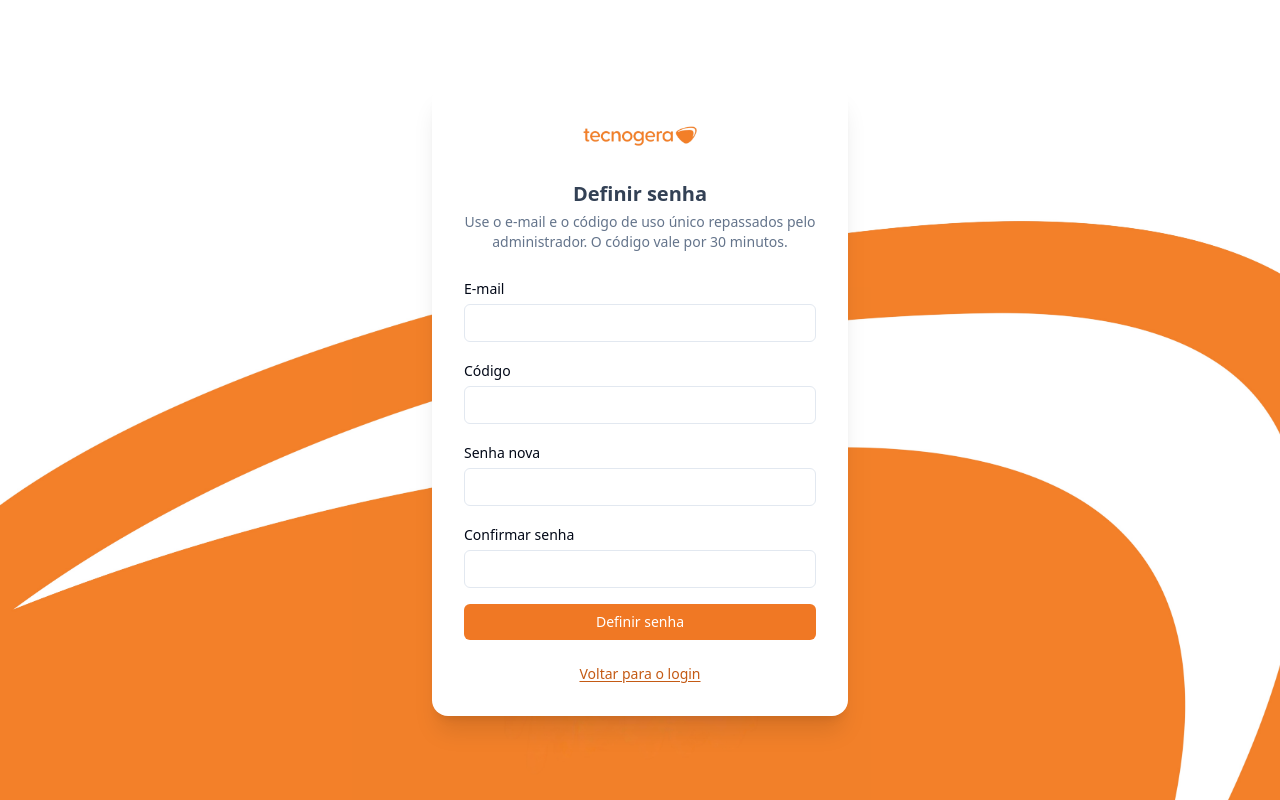
it: DefinirSenhaPage › trata 429 mostrando a mensagem do backend, sem inventar texto novo
The image size is (1280, 800).
Type "usuario@tecnogera.com" into the field labelled "E-mail".
click(640, 323); type("usuario@tecnogera.com")  # box [464,304,816,342]
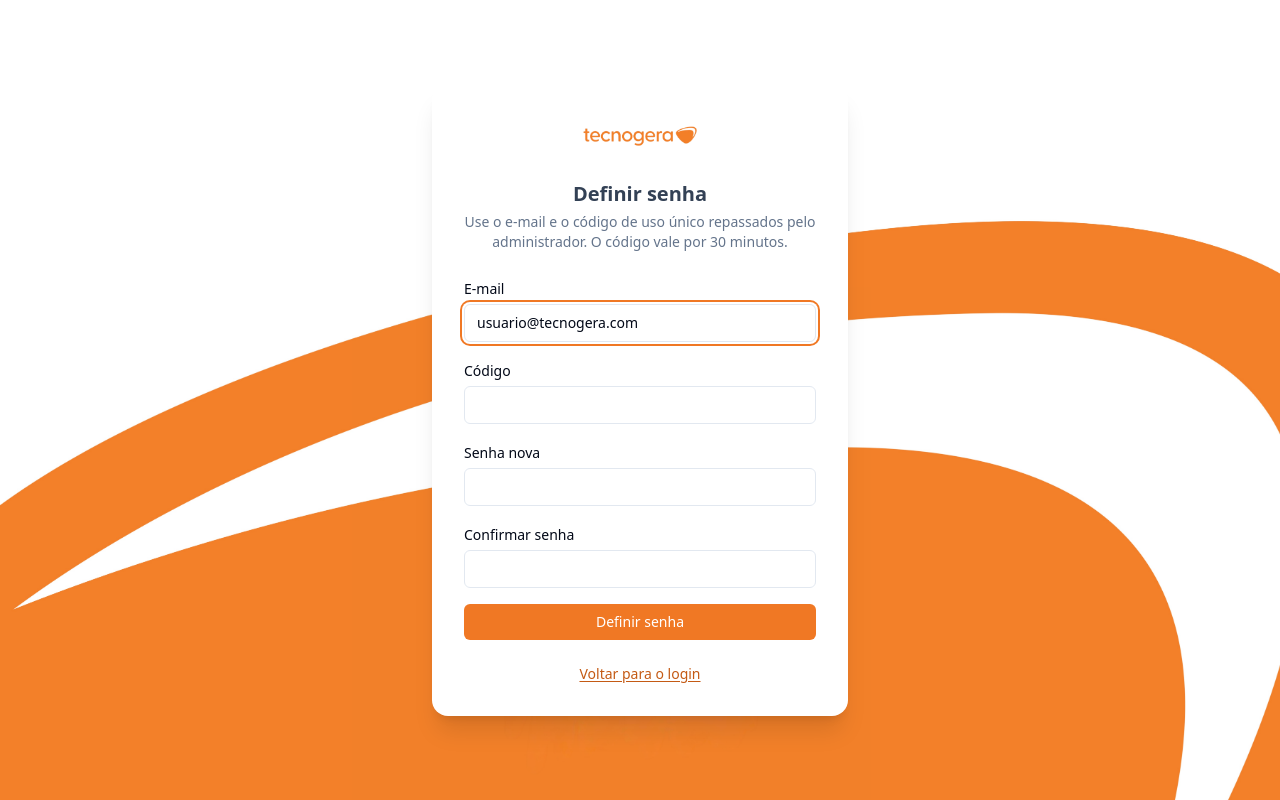
Type "CODIGO-1" into the field labelled "Código".
click(640, 405); type("CODIGO-1")  # box [464,386,816,424]
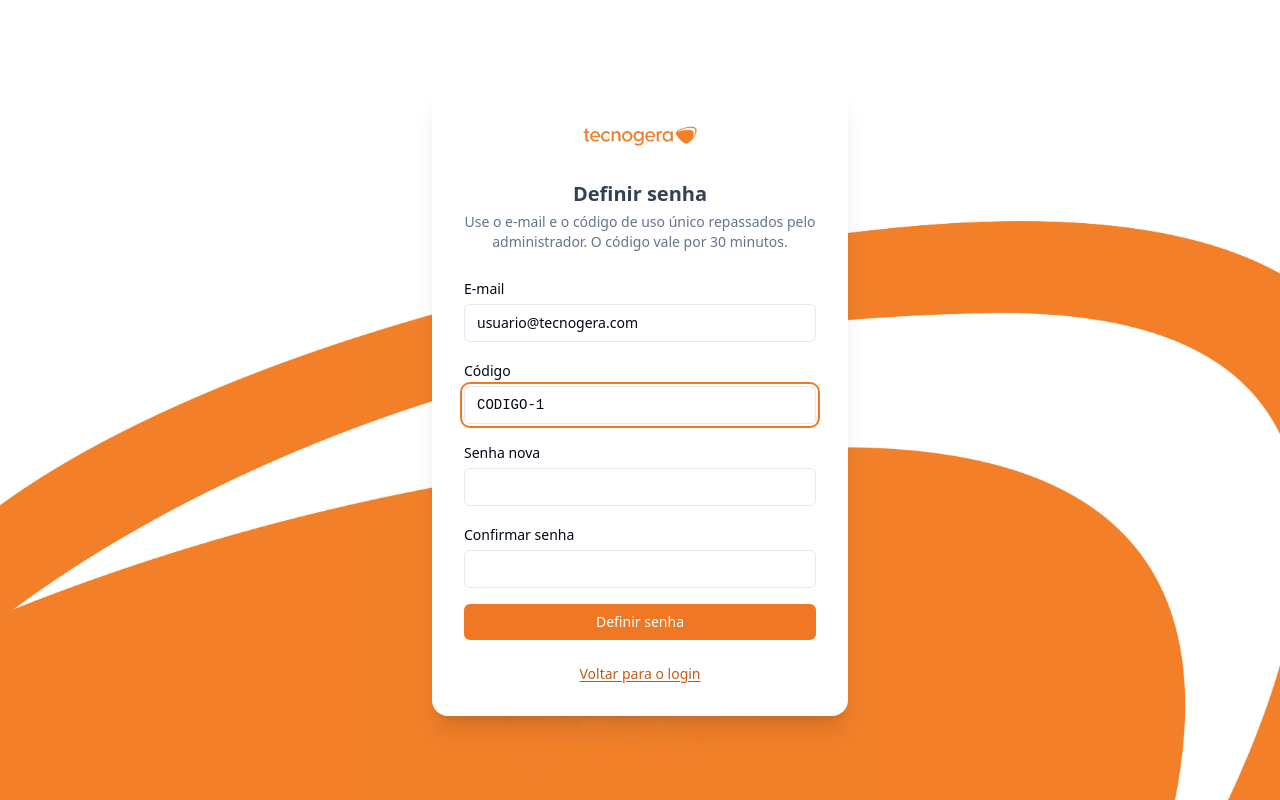
Type "senha1234" into the password field labelled "Senha nova".
click(640, 487); type("senha1234")  # box [464,468,816,506]
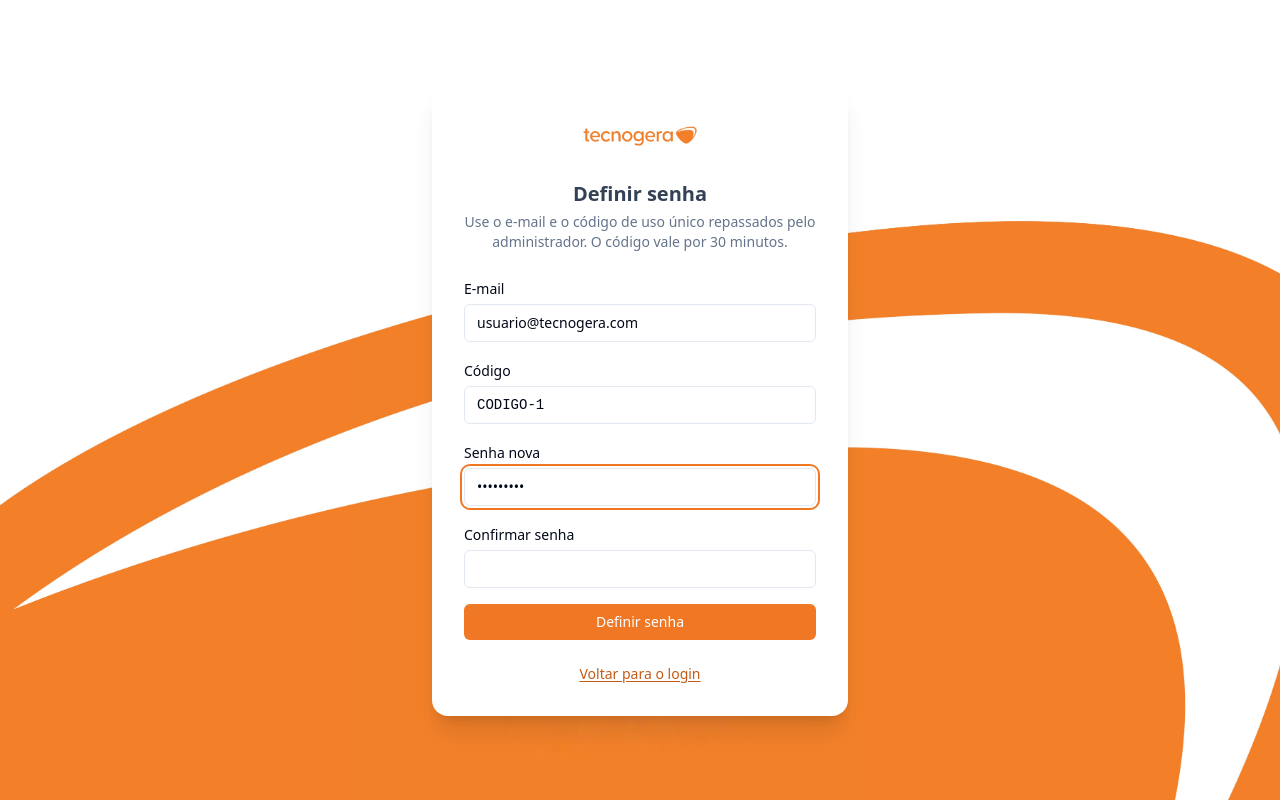
Type "senha1234" into the password field labelled "Confirmar senha".
click(640, 569); type("senha1234")  # box [464,550,816,588]
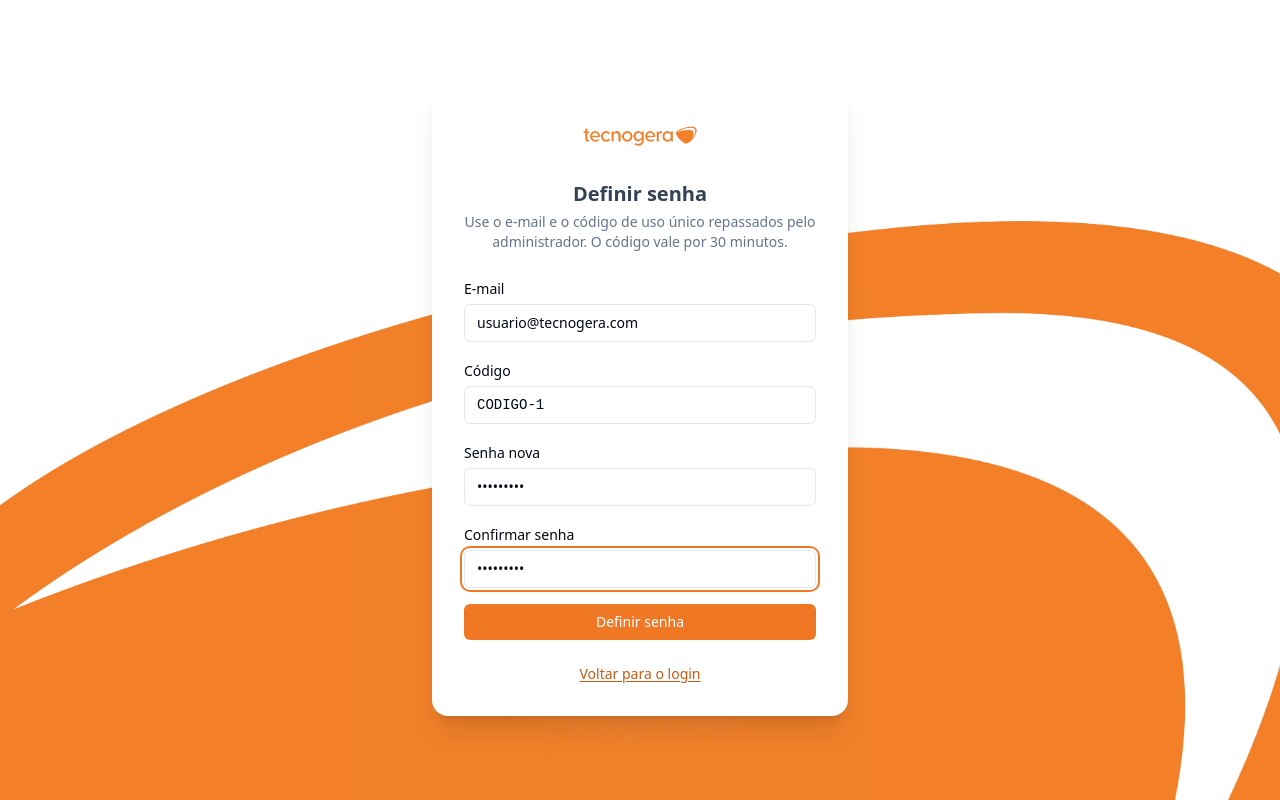
Click the button "Definir senha".
click(640, 622)  # box [464,604,816,640]
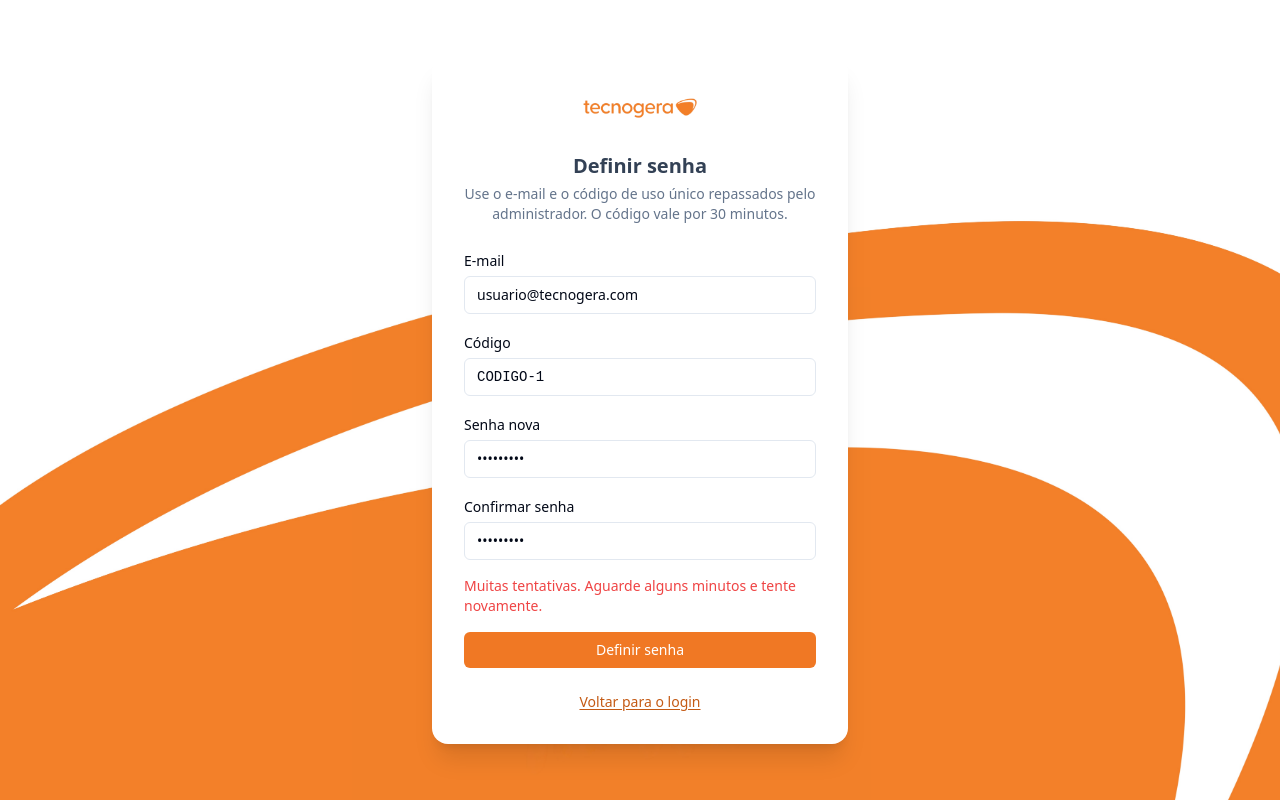
Expected: the message with test id "erro-definir-senha" reads "Muitas tentativas. Aguarde alguns minutos e tente novamente.", [464,576,796,615]
